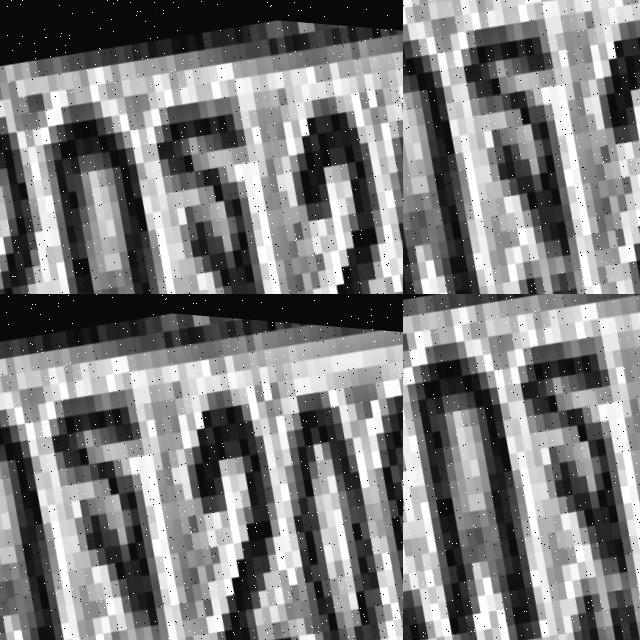license-plate: (403, 294, 640, 640), (403, 0, 640, 294)
